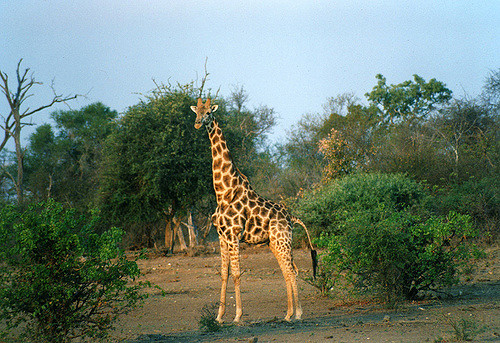giraffe: (190, 97, 332, 335)
